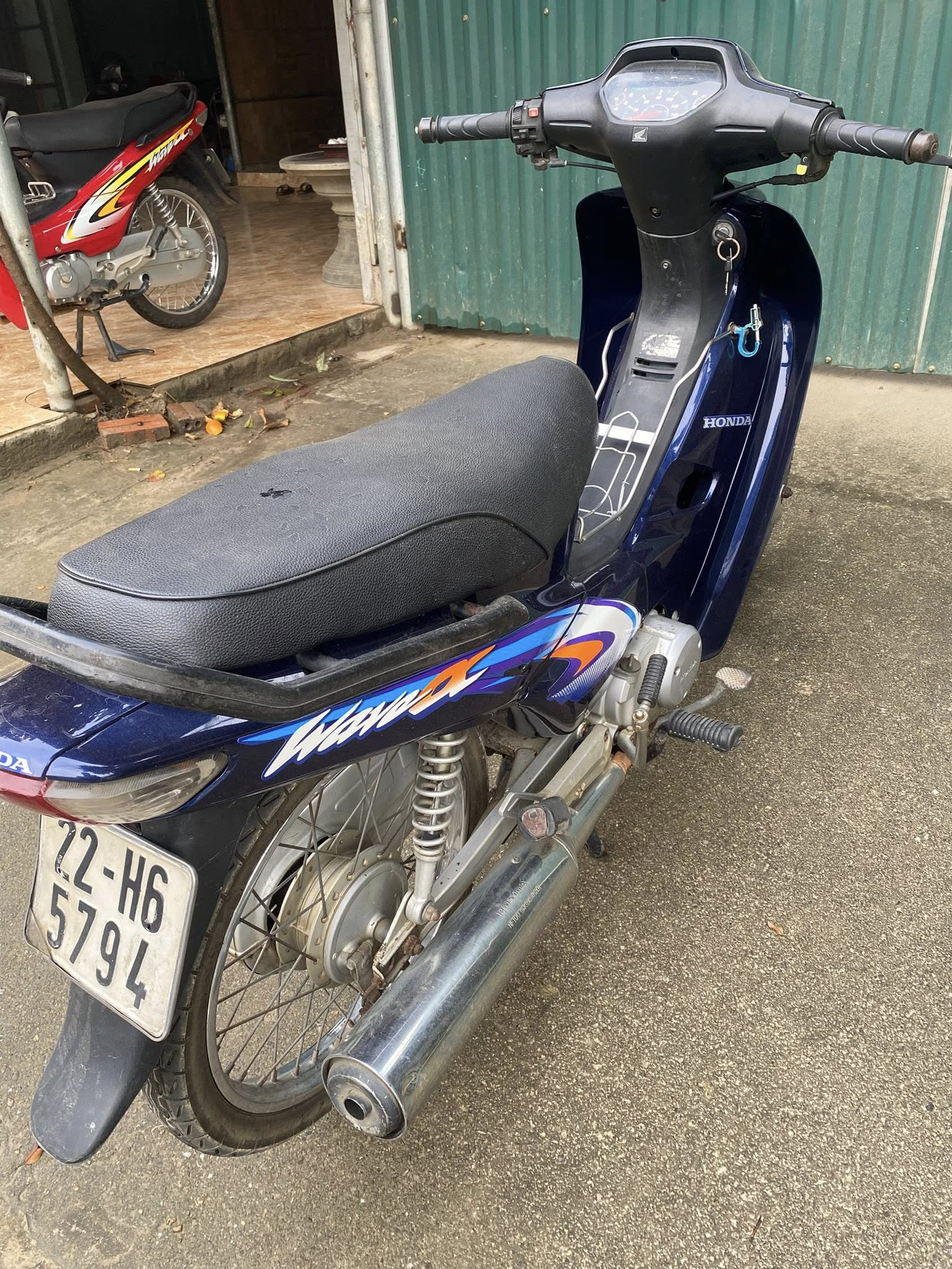bien_so: (21, 796, 214, 1054)
